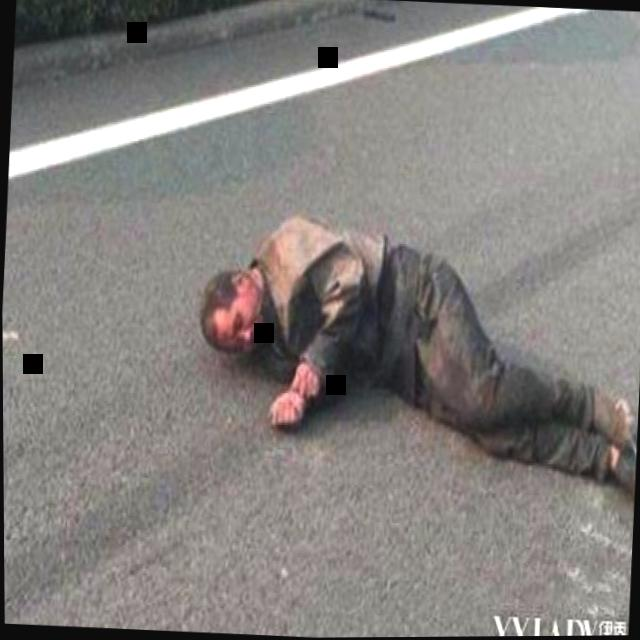Fall-Detected: (184, 195, 640, 532)
